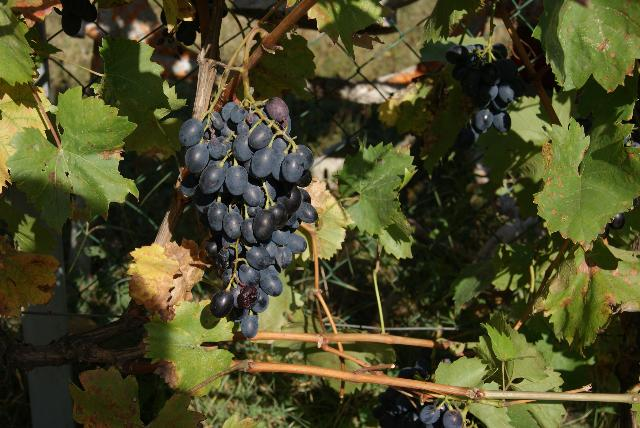grapes: (179, 95, 319, 339), (446, 44, 525, 149)
